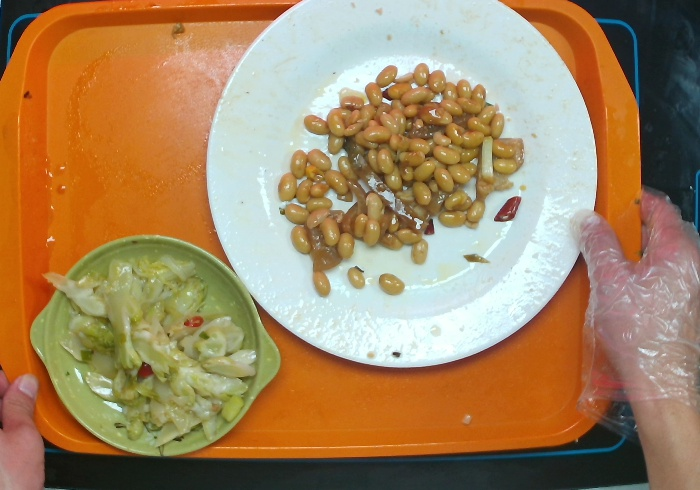NLDX-Da_Yuan_Pan: (200, 1, 601, 376)
NLDX-Lv_Hua_Shuang_Er_Die: (25, 232, 283, 459)
